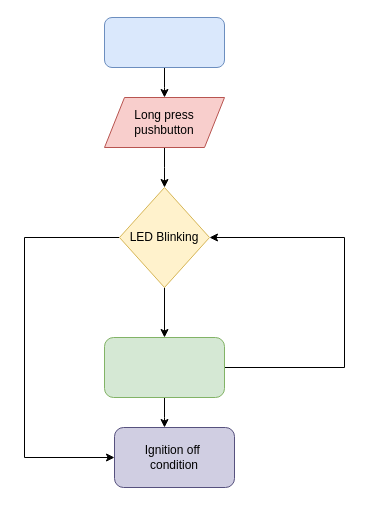
This 370x505 diagram has some shape labels left out. The shapes that lost their labels are listed below. From the top down, each one's centre as x and y in pixels, then its label:
the point at 164,42: Ignition on condition
the point at 164,367: Short press pushbutton
